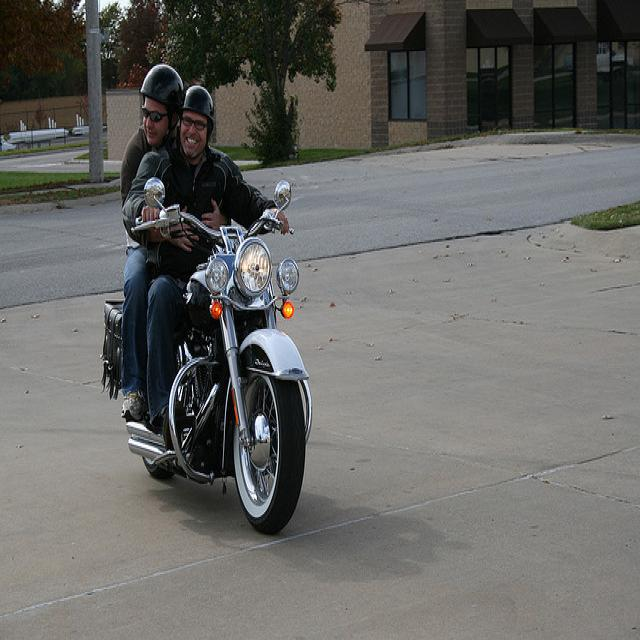motor: (107, 175, 314, 532)
